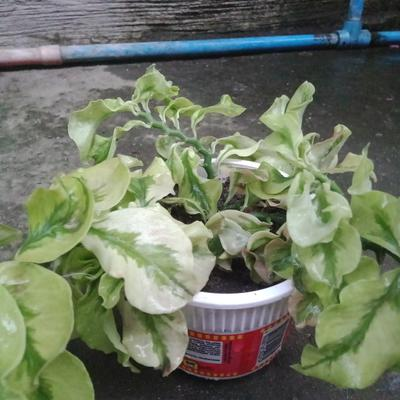Pothos plant: (71, 88, 380, 339)
